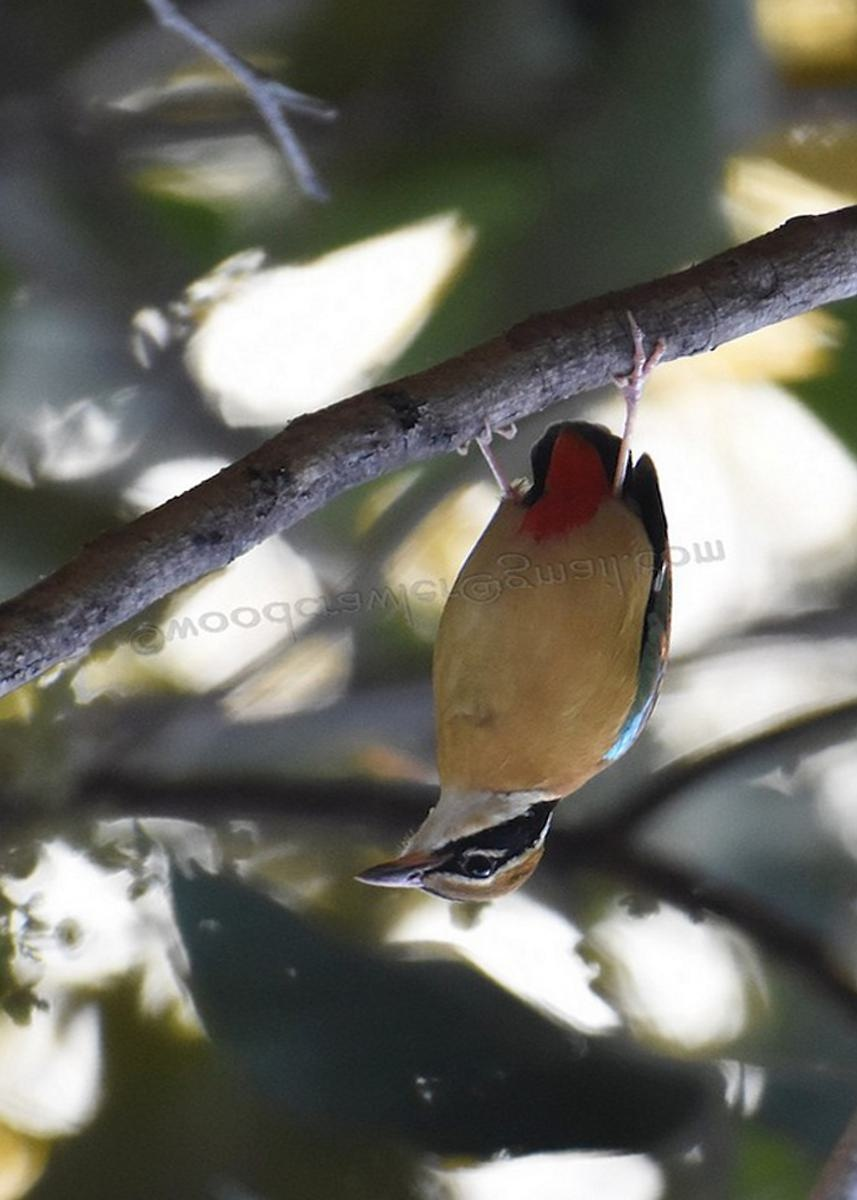pitta: (374, 337, 720, 911)
